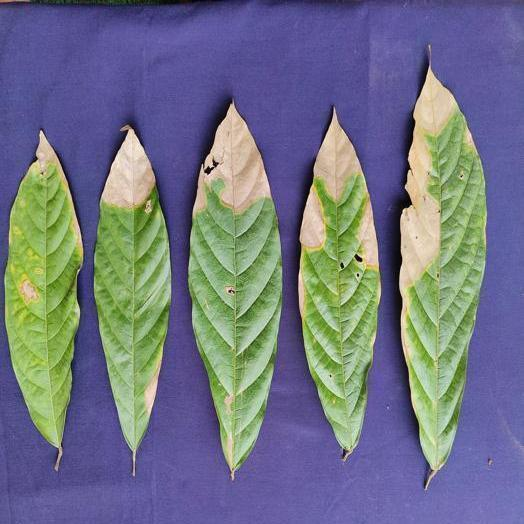Potassium: (400, 65, 485, 488), (188, 103, 281, 478), (299, 109, 380, 460), (94, 127, 170, 475), (4, 131, 82, 470)
